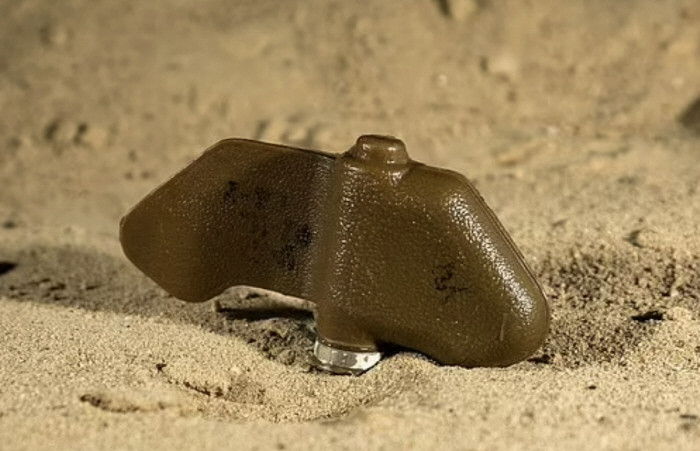butterfly: (116, 123, 564, 387)
